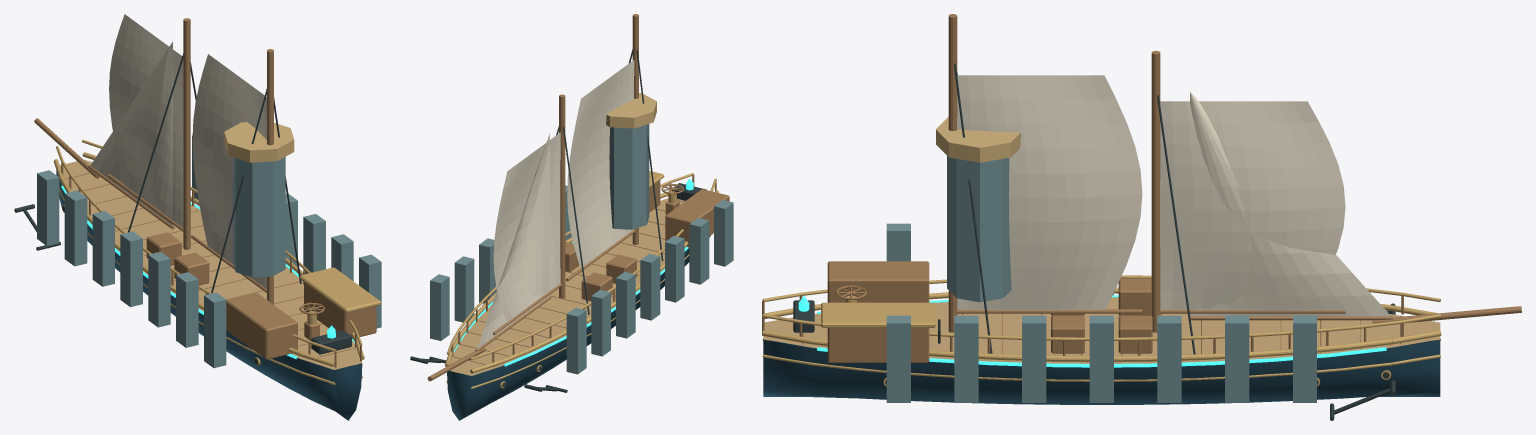
The model's file is premium_golden_clipper.glb.
3 views of the same model, side by side, from view 1: azimuth 30°, elevation 25°; view 2: azimuth 150°, elevation 25°; view 3: azimuth 270°, elevation 25° (orthographic). The views are drawn at different scales.
Parts seen in each view (by area): view 1: premium_golden_clipper; view 2: premium_golden_clipper; view 3: premium_golden_clipper.
Boxes of the visible parts, <box> form: premium_golden_clipper: <box>14,14,381,420</box>; premium_golden_clipper: <box>410,14,733,420</box>; premium_golden_clipper: <box>762,14,1521,420</box>.
Bounding box in the file's own units: 4.87 × 8.7 × 15.71.
